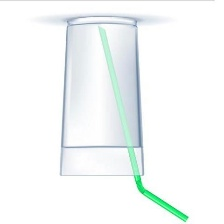drinking_straw: (93, 23, 191, 223)
glass: (51, 10, 149, 182)
